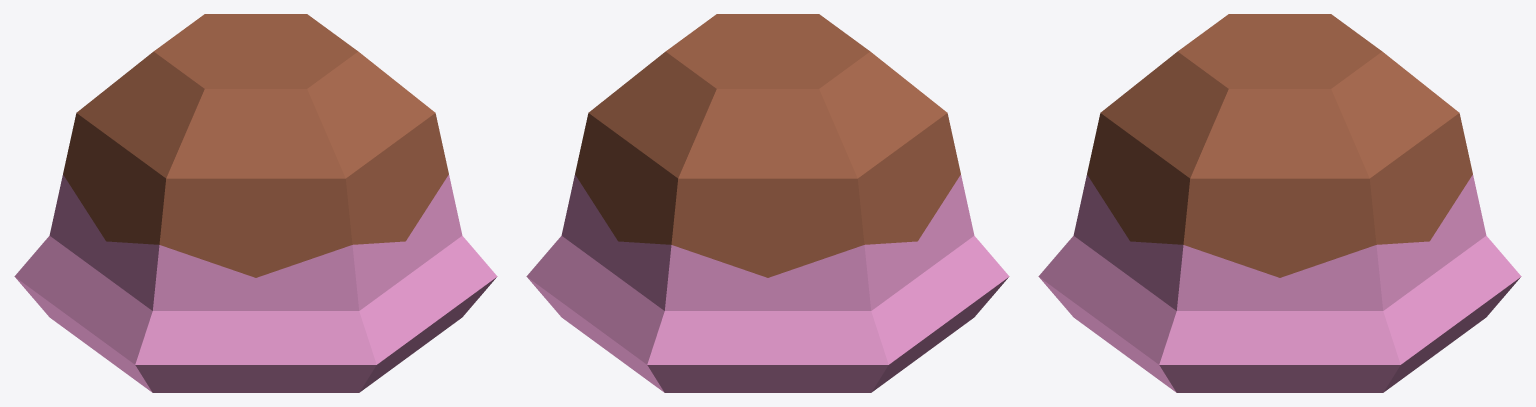
Rendered from iceCreamScoop.fbx.
The picture shows the model from 3 angles, left to right: view 1: azimuth 30°, elevation 25°; view 2: azimuth 150°, elevation 25°; view 3: azimuth 270°, elevation 25°; orthographic projection.
Visible parts, largest first — view 1: iceCreamScoop; view 2: iceCreamScoop; view 3: iceCreamScoop.
Part boxes in pixels (x1=…): iceCreamScoop: x1=14, y1=14, x2=497, y2=392; iceCreamScoop: x1=526, y1=14, x2=1009, y2=392; iceCreamScoop: x1=1038, y1=14, x2=1521, y2=392.
Bounding box in the file's own units: 2.35 × 1.65 × 2.72.
